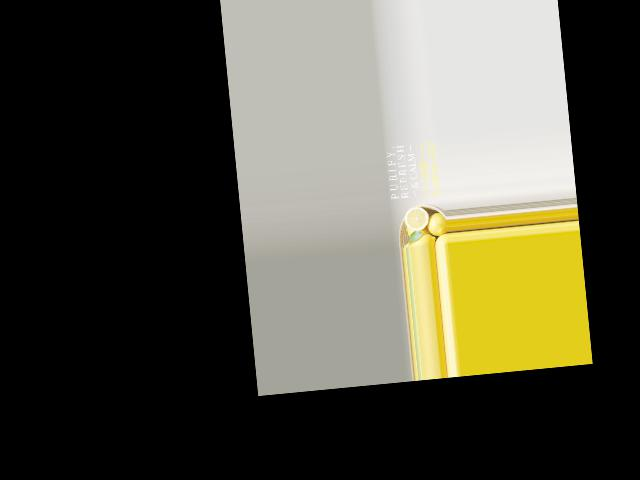lemon: (425, 213, 448, 236)
